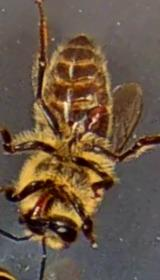varroa_mite: (81, 95, 118, 140)
